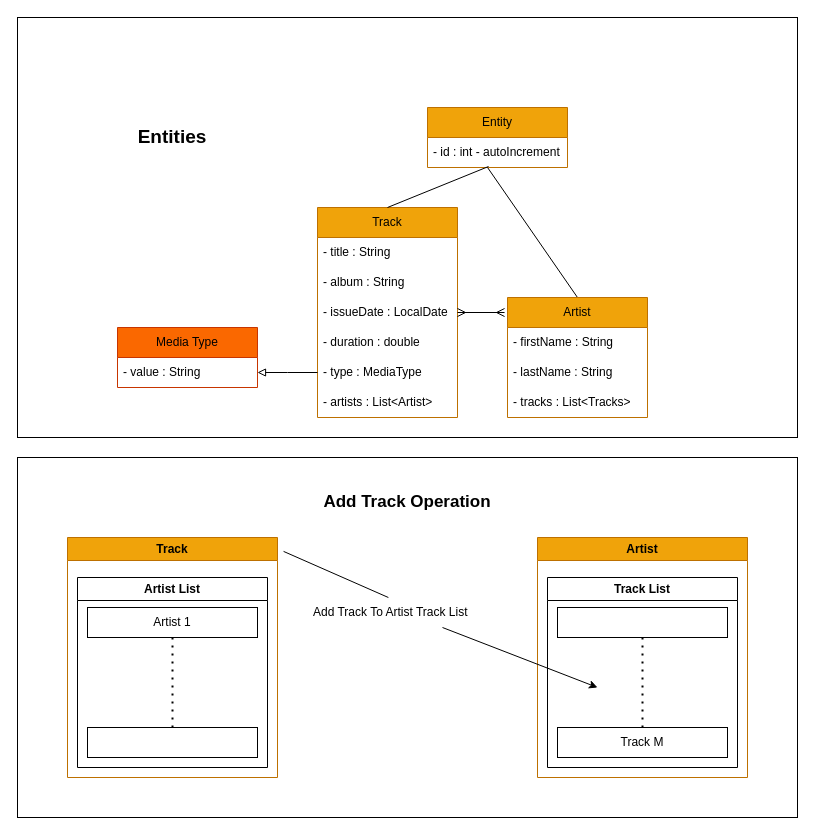
The diagram is 815 pixels wide and 835 high, and some of its shapes have lost their labels. The centre of each missing label's shape, as x and y in pixels:
"Artist N" goes at point 172,742.
"Track 1" goes at point 642,622.
